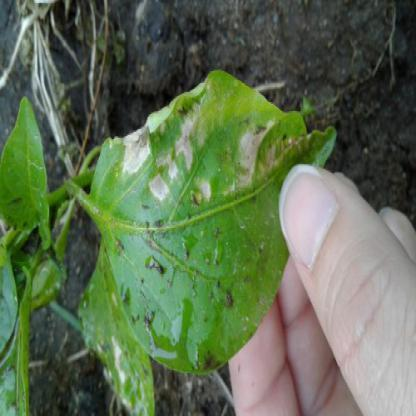Bell_pepper leaf spot: (91, 69, 341, 375)
